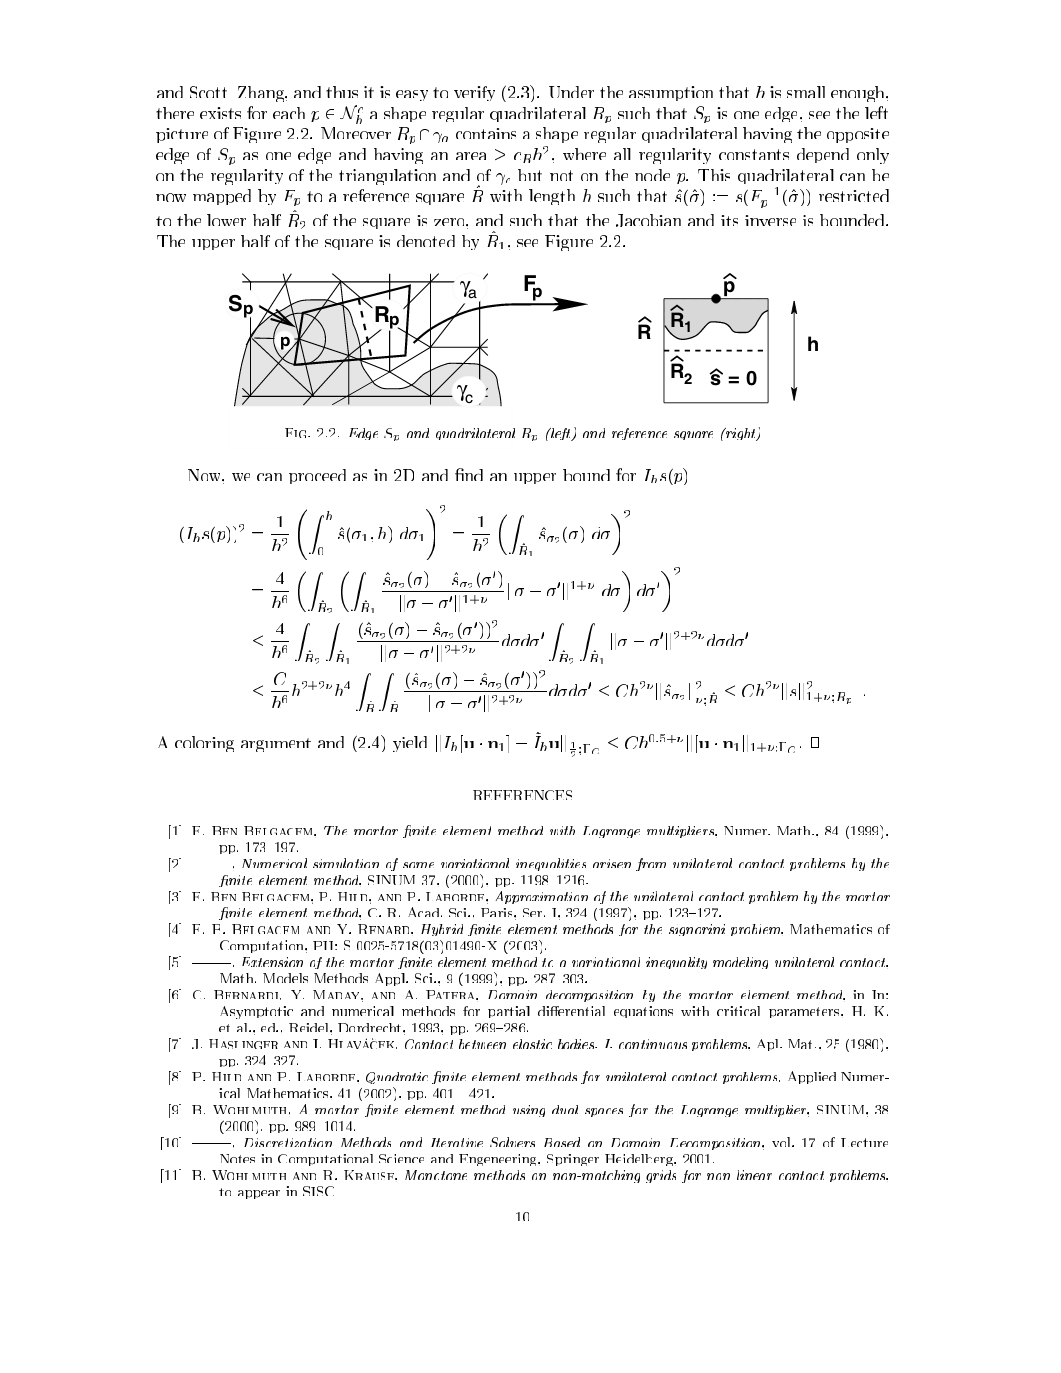figure: (228, 272, 817, 407)
formula: (253, 669, 864, 712), (181, 504, 629, 559), (253, 619, 747, 664), (252, 566, 679, 613)
